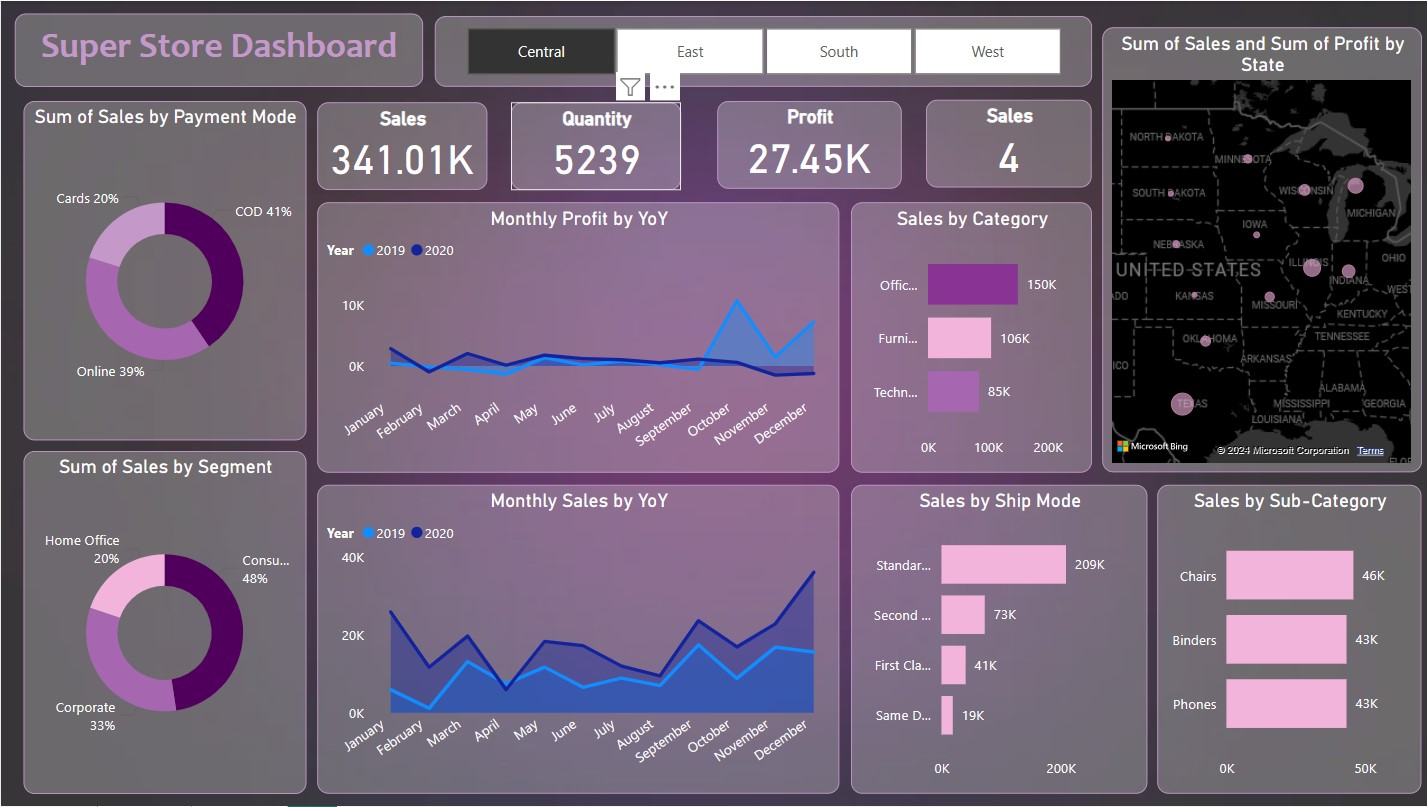

The page's visual inventory and layout, read from the dashboard file:
{"tool":"powerbi","page":{"name":"Page 1","canvas":[1280,720],"ordinal":0},"visuals":[{"type":"clusteredBarChart","title":"Sales by Category","fields":{"Y":["Sum(Sheet1.Sales)"],"Category":["Sheet1.Category"]},"box":[758.8,179.8,215.4,241.5],"z":0},{"type":"clusteredBarChart","title":"Sales by Ship Mode","fields":{"Y":["Sum(Sheet1.Sales)"],"Category":["Sheet1.Ship Mode"]},"box":[758.8,432.2,264.8,275.8],"z":1000},{"type":"clusteredBarChart","title":"Sales by Sub-Category","fields":{"Y":["Sum(Sheet1.Sales)"],"Category":["Sheet1.Sub-Category"]},"box":[1033.3,432.2,236,275.8],"z":2000},{"type":"areaChart","title":"Monthly Sales by YoY","fields":{"Category":["Sheet1.Order Date.Variation.Date Hierarchy.Month","Sheet1.Order Date.Variation.Date Hierarchy.Day"],"Y":["Sum(Sheet1.Sales)"],"Series":["Sheet1.Order Date.Variation.Date Hierarchy.Year"]},"box":[282.7,432.2,466.6,275.8],"z":3000},{"type":"areaChart","title":"Monthly Profit by YoY","fields":{"Series":["Sheet1.Order Date.Variation.Date Hierarchy.Year"],"Y":["Sum(Sheet1.Profit)"],"Category":["Sheet1.Order Date.Variation.Date Hierarchy.Month","Sheet1.Order Date.Variation.Date Hierarchy.Day"]},"box":[282.7,179.8,466.6,241.5],"z":4000},{"type":"map","fields":{"Category":["Sheet1.State"],"Size":["Sum(Sheet1.Sales)"]},"box":[983.9,23.3,285.4,397.9],"z":5000},{"type":"donutChart","fields":{"Category":["Sheet1.Segment"],"Y":["Sum(Sheet1.Sales)"]},"box":[20.6,402.1,252.5,306],"z":6000},{"type":"donutChart","fields":{"Y":["Sum(Sheet1.Sales)"],"Category":["Sheet1.Payment Mode"]},"box":[20.6,89.2,252.5,303.3],"z":7000},{"type":"slicer","fields":{"Values":["Sheet1.Region"]},"box":[387,13.7,587.3,63.1],"z":8000},{"type":"textbox","box":[12.3,11,365,65.9],"z":9000},{"type":"card","title":"Sales","fields":{"Values":["Sum(Sheet1.Sales)"]},"box":[282.7,90.6,145.5,78.2],"z":10000},{"type":"card","title":"Quantity","fields":{"Values":["Sum(Sheet1.Quantity)"]},"box":[455.6,90.6,152.3,78.2],"z":11000},{"type":"card","title":"Profit","fields":{"Values":["Sum(Sheet1.Profit)"]},"box":[639.5,89.2,164.7,78.2],"z":12000},{"type":"card","title":"Sales","fields":{"Values":["Avg(Sheet1.AvgDelivery)"]},"box":[826.1,87.8,148.2,78.2],"z":13000}]}

Visuals, with their boxes in screenshot pixels (x1, y1, x2, y2), scaled from the page's 1280x720 canvas onto the 1427x807 screenshot:
"Sales by Category" clusteredBarChart: [left=846, top=202, right=1086, bottom=472]
"Sales by Ship Mode" clusteredBarChart: [left=846, top=484, right=1141, bottom=794]
"Sales by Sub-Category" clusteredBarChart: [left=1152, top=484, right=1415, bottom=794]
"Monthly Sales by YoY" areaChart: [left=315, top=484, right=835, bottom=794]
"Monthly Profit by YoY" areaChart: [left=315, top=202, right=835, bottom=472]
map - Sheet1.State x Sum(Sheet1.Sales): [left=1097, top=26, right=1415, bottom=472]
donutChart - Sheet1.Segment x Sum(Sheet1.Sales): [left=23, top=451, right=304, bottom=794]
donutChart - Sum(Sheet1.Sales) x Sheet1.Payment Mode: [left=23, top=100, right=304, bottom=440]
slicer - Sheet1.Region: [left=431, top=15, right=1086, bottom=86]
textbox: [left=14, top=12, right=421, bottom=86]
"Sales" card: [left=315, top=102, right=477, bottom=189]
"Quantity" card: [left=508, top=102, right=678, bottom=189]
"Profit" card: [left=713, top=100, right=897, bottom=188]
"Sales" card: [left=921, top=98, right=1086, bottom=186]
